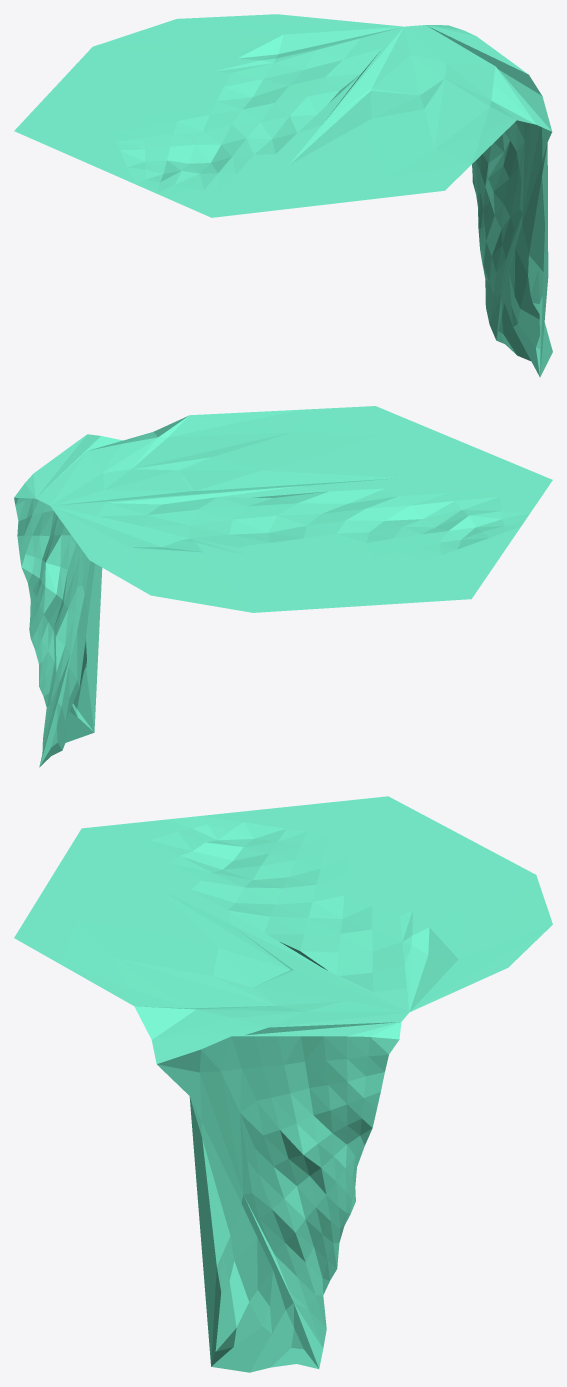
File: Water.glb
3 renders of one model, top to bottom at view 1: azimuth 30°, elevation 25°; view 2: azimuth 150°, elevation 25°; view 3: azimuth 270°, elevation 25°, orthographic. The views are drawn at different scales.
Parts seen in each view (by area): view 1: Plane; view 2: Plane; view 3: Plane.
Part boxes in pixels (x1,y1,x2,y2): Plane: [14, 14, 552, 377]; Plane: [14, 406, 552, 767]; Plane: [14, 796, 552, 1372].
Bounding box in the file's own units: 19.41 × 11.93 × 17.7.
